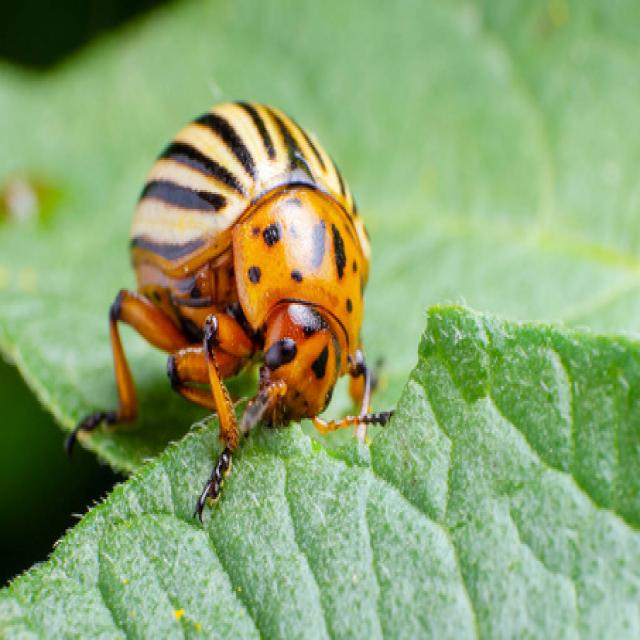ShuCaiHuaBanChong-Grown-: (102, 100, 400, 468)
